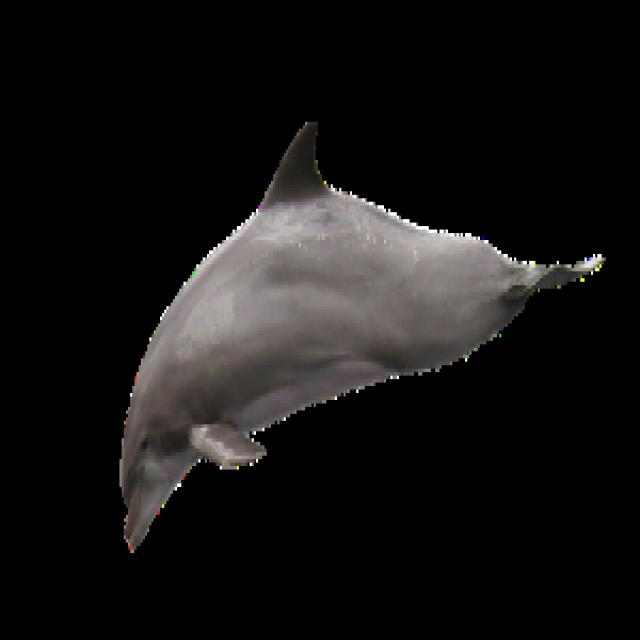Dolphin: (117, 115, 618, 568)
